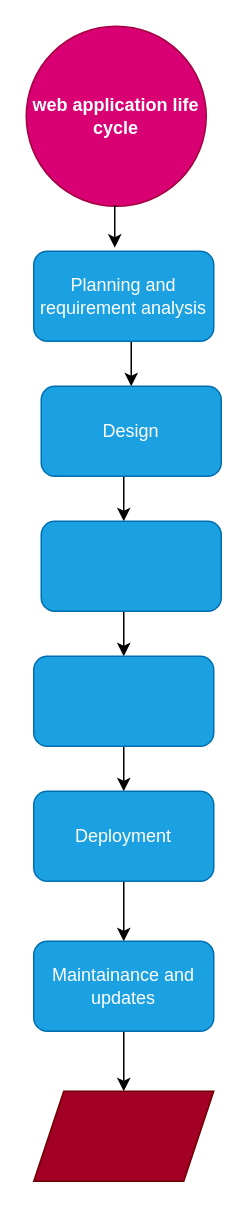
Some shapes in this 248 by 1208 pixel diagram are drawn without their labels. The shapes that lost their labels are listed below. From the top down, each one's box as (x1, y1, x2, y2) in pixels, then its label:
(40, 520, 221, 611): Development
(32, 655, 214, 746): Testing
(32, 1090, 214, 1181): End of life decommissioning
